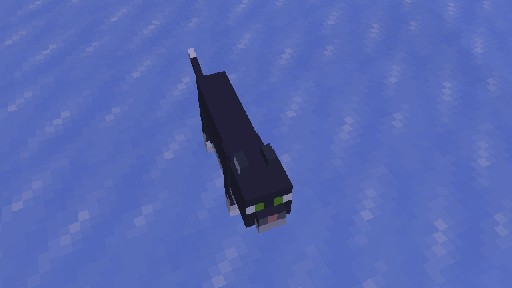cat: (187, 47, 293, 233)
